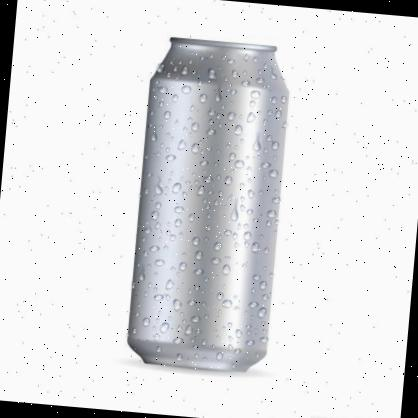can: (122, 30, 298, 376)
